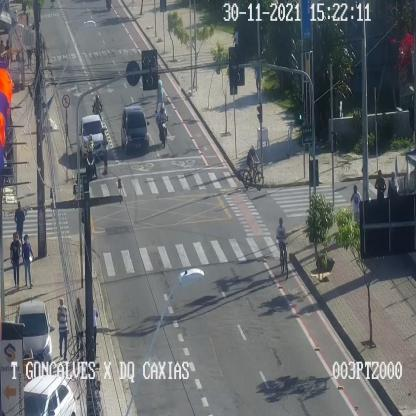bicycle: (243, 145, 264, 190), (277, 217, 290, 275)
car: (24, 374, 78, 415), (18, 301, 52, 360), (122, 106, 148, 152), (80, 118, 108, 160)
motorbike: (157, 106, 168, 147), (87, 134, 97, 177), (92, 94, 102, 117)
person: (74, 296, 85, 358), (58, 298, 69, 358), (22, 235, 34, 287), (10, 233, 21, 285), (254, 58, 264, 99), (351, 184, 361, 219), (102, 128, 109, 176), (14, 201, 25, 231), (388, 169, 400, 195), (375, 168, 385, 198)
